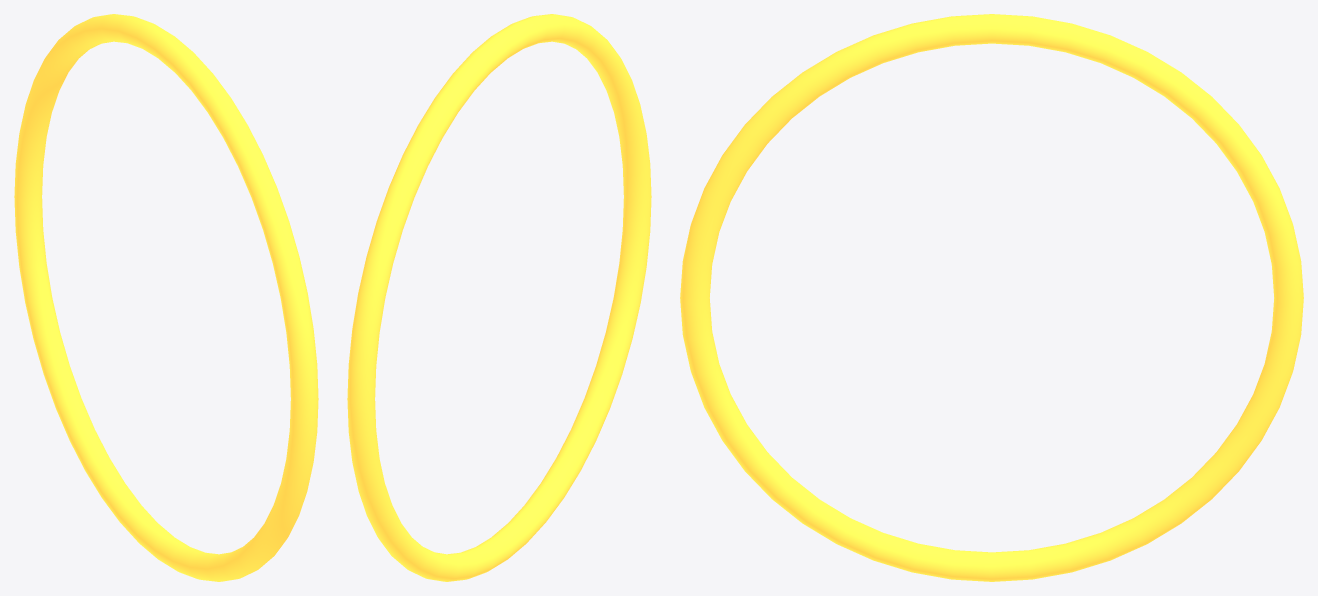
Rendered from crash_ring_gold.glb.
3 views of the same model, side by side, from view 1: azimuth 30°, elevation 25°; view 2: azimuth 150°, elevation 25°; view 3: azimuth 270°, elevation 25° (orthographic). The views are drawn at different scales.
Parts seen in each view (by area): view 1: Ring; view 2: Ring; view 3: Ring.
Part boxes in pixels (box(x1,y1,x2,y2)): Ring: box(14, 14, 318, 581); Ring: box(347, 14, 651, 581); Ring: box(680, 14, 1303, 581).
Bounding box in the file's own units: 0.007 × 0.147 × 0.147.
